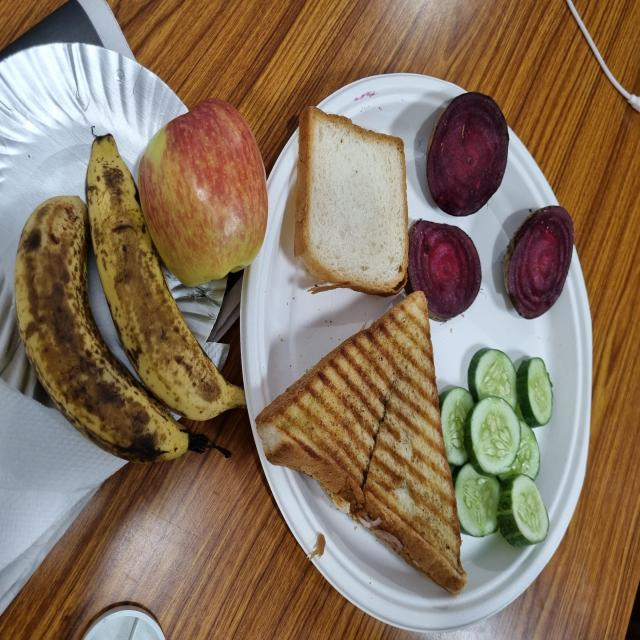apple: (133, 102, 270, 288)
banana: (15, 196, 192, 463), (84, 136, 244, 426)
cucumber: (468, 398, 522, 477), (498, 475, 549, 548), (453, 465, 502, 540), (466, 348, 519, 410), (440, 387, 476, 474), (515, 356, 555, 433), (498, 425, 542, 481)
